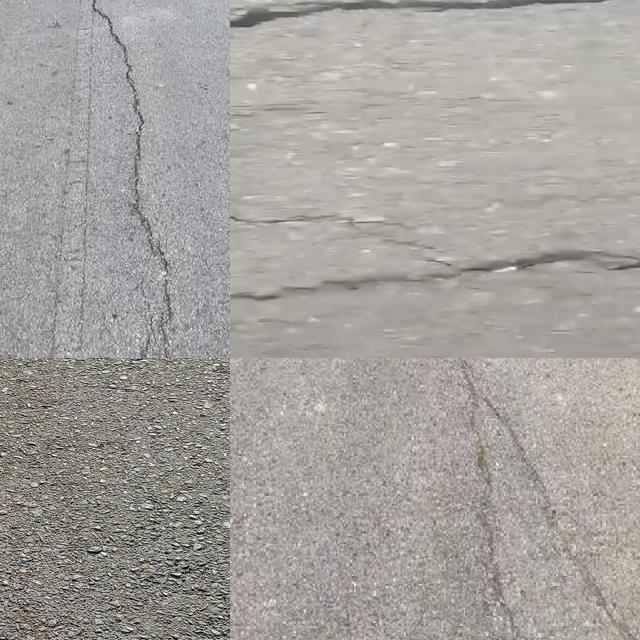Melintang: (230, 242, 640, 312), (230, 0, 640, 42)
Memanjang: (72, 0, 188, 358), (477, 392, 640, 640), (433, 358, 528, 640)
